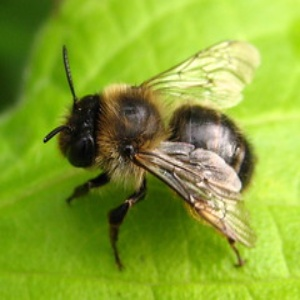bee: (39, 44, 270, 265)
